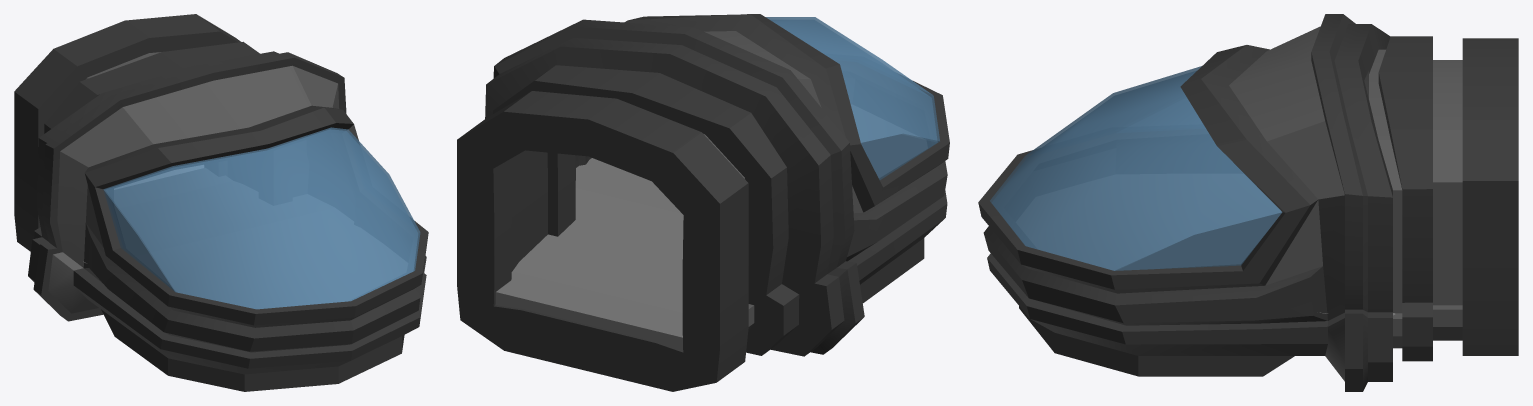
Rendered from Cockpit_Module_02.fbx.
The picture shows the model from 3 angles, left to right: view 1: azimuth 30°, elevation 25°; view 2: azimuth 150°, elevation 25°; view 3: azimuth 270°, elevation 25°; orthographic projection. The views are drawn at different scales.
Visible parts, largest first — view 1: Cockpit_Module_02; view 2: Cockpit_Module_02; view 3: Cockpit_Module_02.
Boxes of the visible parts, bbox=[...] form: Cockpit_Module_02: bbox=[14, 14, 428, 391]; Cockpit_Module_02: bbox=[457, 14, 949, 391]; Cockpit_Module_02: bbox=[978, 14, 1518, 391].
Size of the model in its own units: 707 by 491 by 896.
